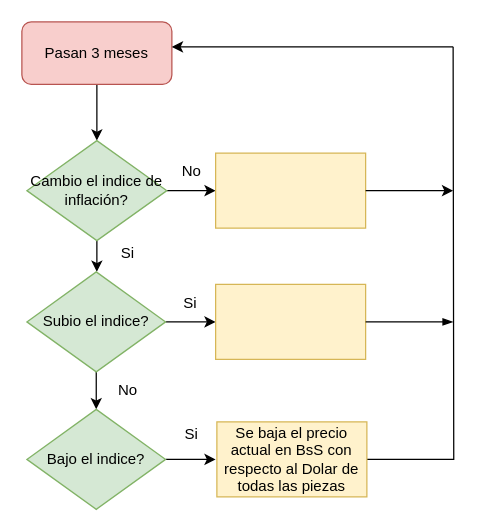
The diagram is 485 pixels wide and 531 high, and some of its shapes have lost their labels. Each missing label, with the centre of its shape:
Los precios no cambian: (290,190)
Se aumenta el precio actual en BsS con respecto al Dolar de todas las piezas: (290,321)
